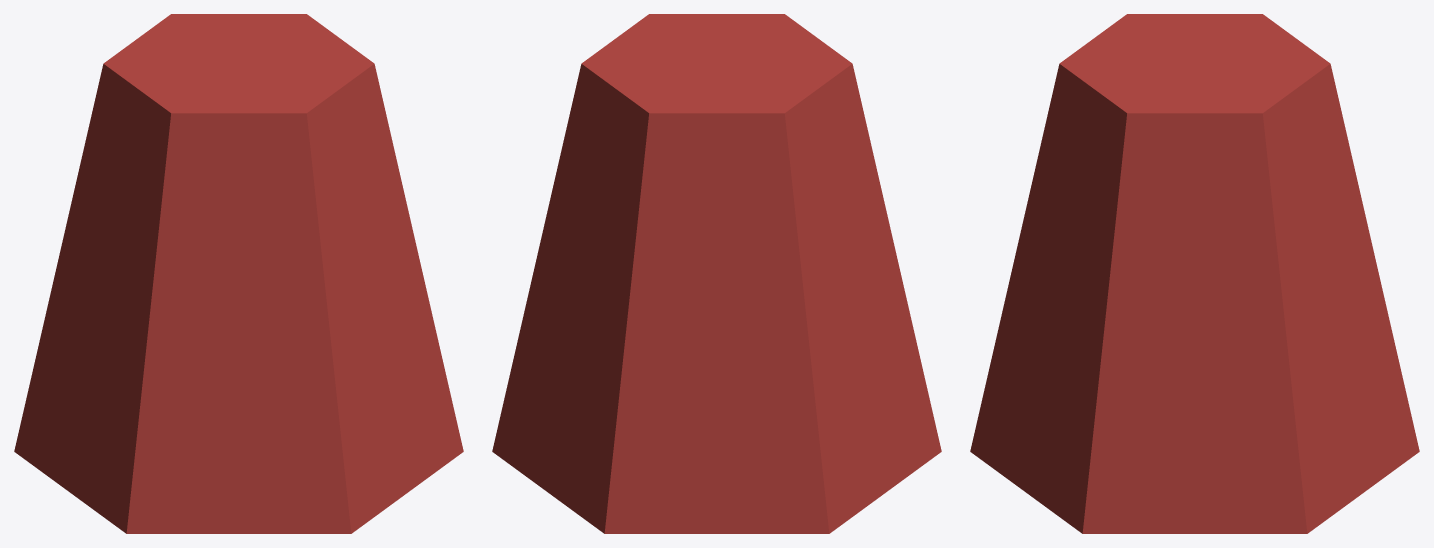
3 renders of one model, left to right at view 1: azimuth 30°, elevation 25°; view 2: azimuth 150°, elevation 25°; view 3: azimuth 270°, elevation 25°, orthographic.
Visible parts, largest first — view 1: cone_lod2; view 2: cone_lod2; view 3: cone_lod2.
Part boxes in pixels (box(x1,y1,x2,y2)): cone_lod2: box(14, 14, 463, 533); cone_lod2: box(492, 14, 941, 533); cone_lod2: box(970, 14, 1419, 533).
Size of the model in its own units: 0.1091 by 0.12 by 0.126.
